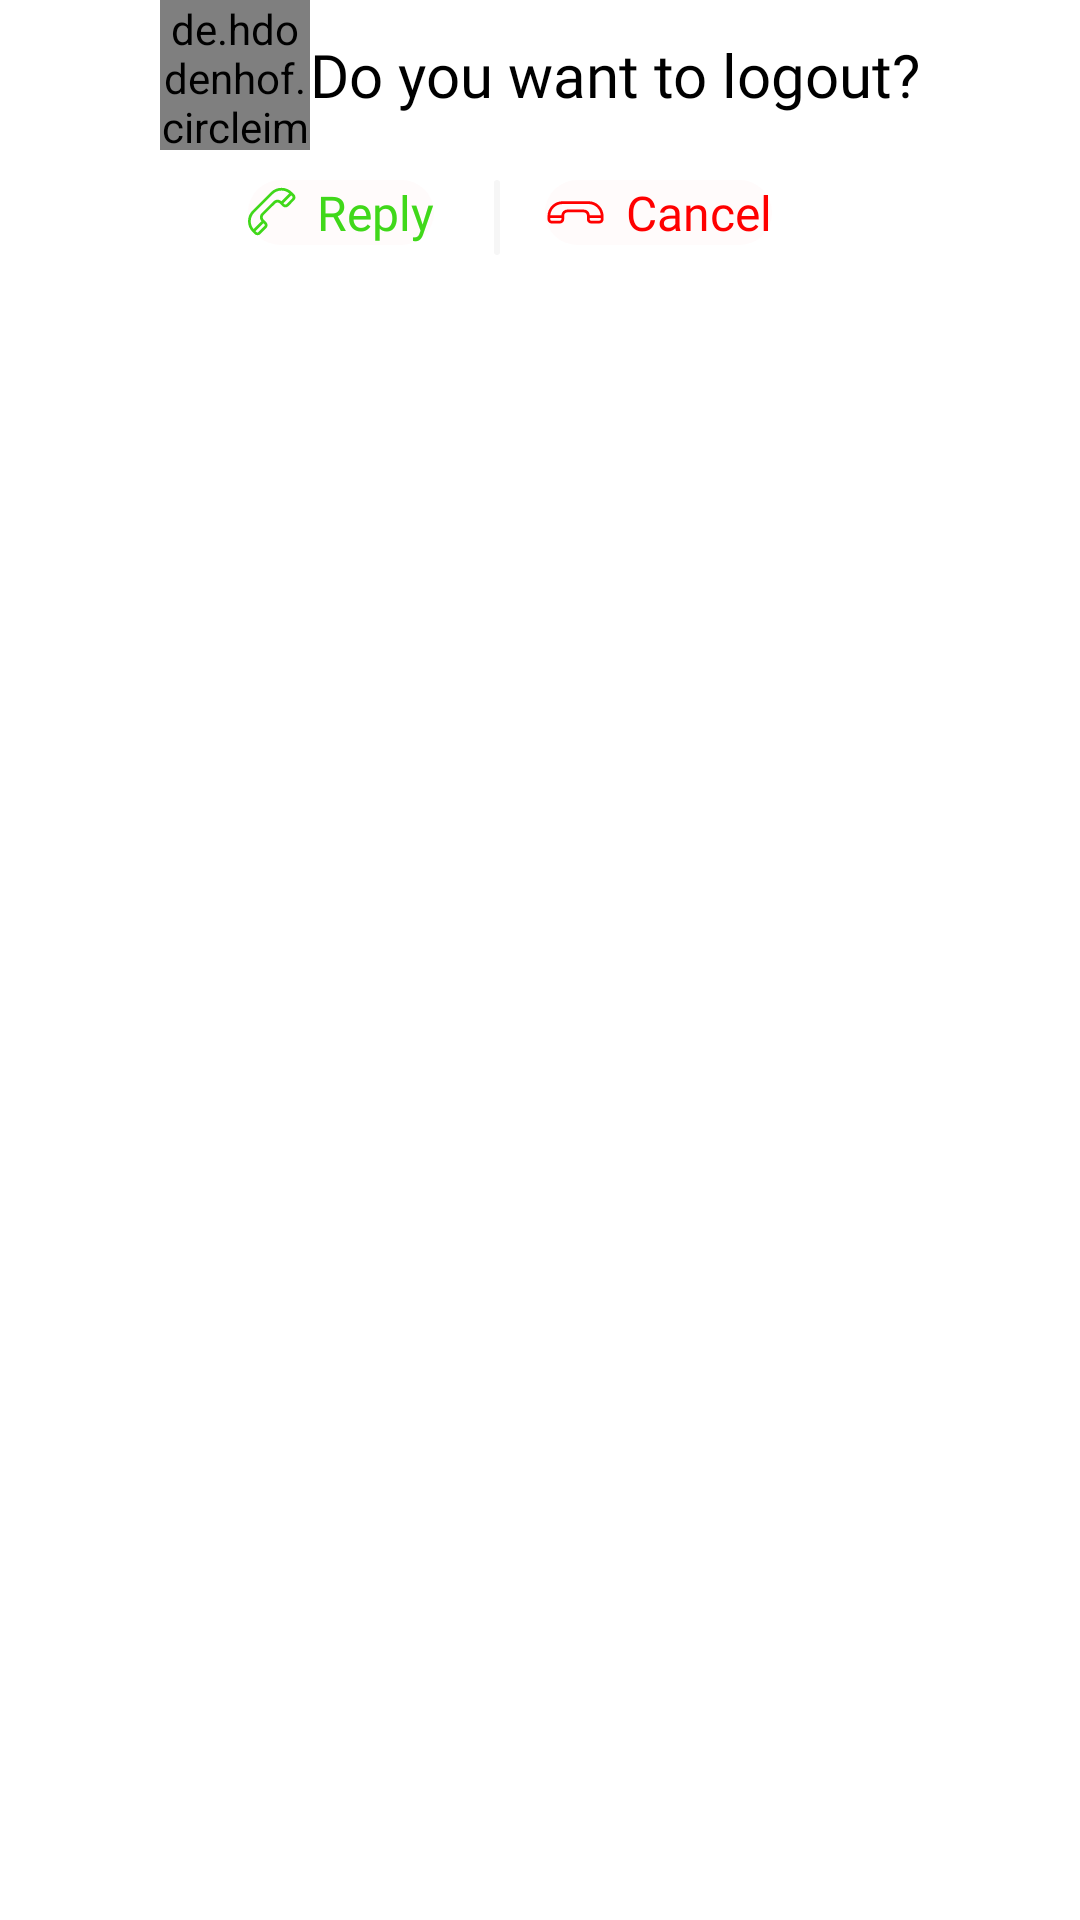

Point at icon controls on the screen. Image size 1080px x 1920px, points as (x=x, y=y).
phone decline: (x=575, y=212)
